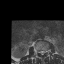CCS_normal: (41, 48, 43, 57)
LFS_normal: (44, 48, 46, 54)
LLS_normal: (43, 49, 44, 55)
RFS_normal: (38, 49, 40, 55)
RLS_normal: (40, 49, 41, 55)
